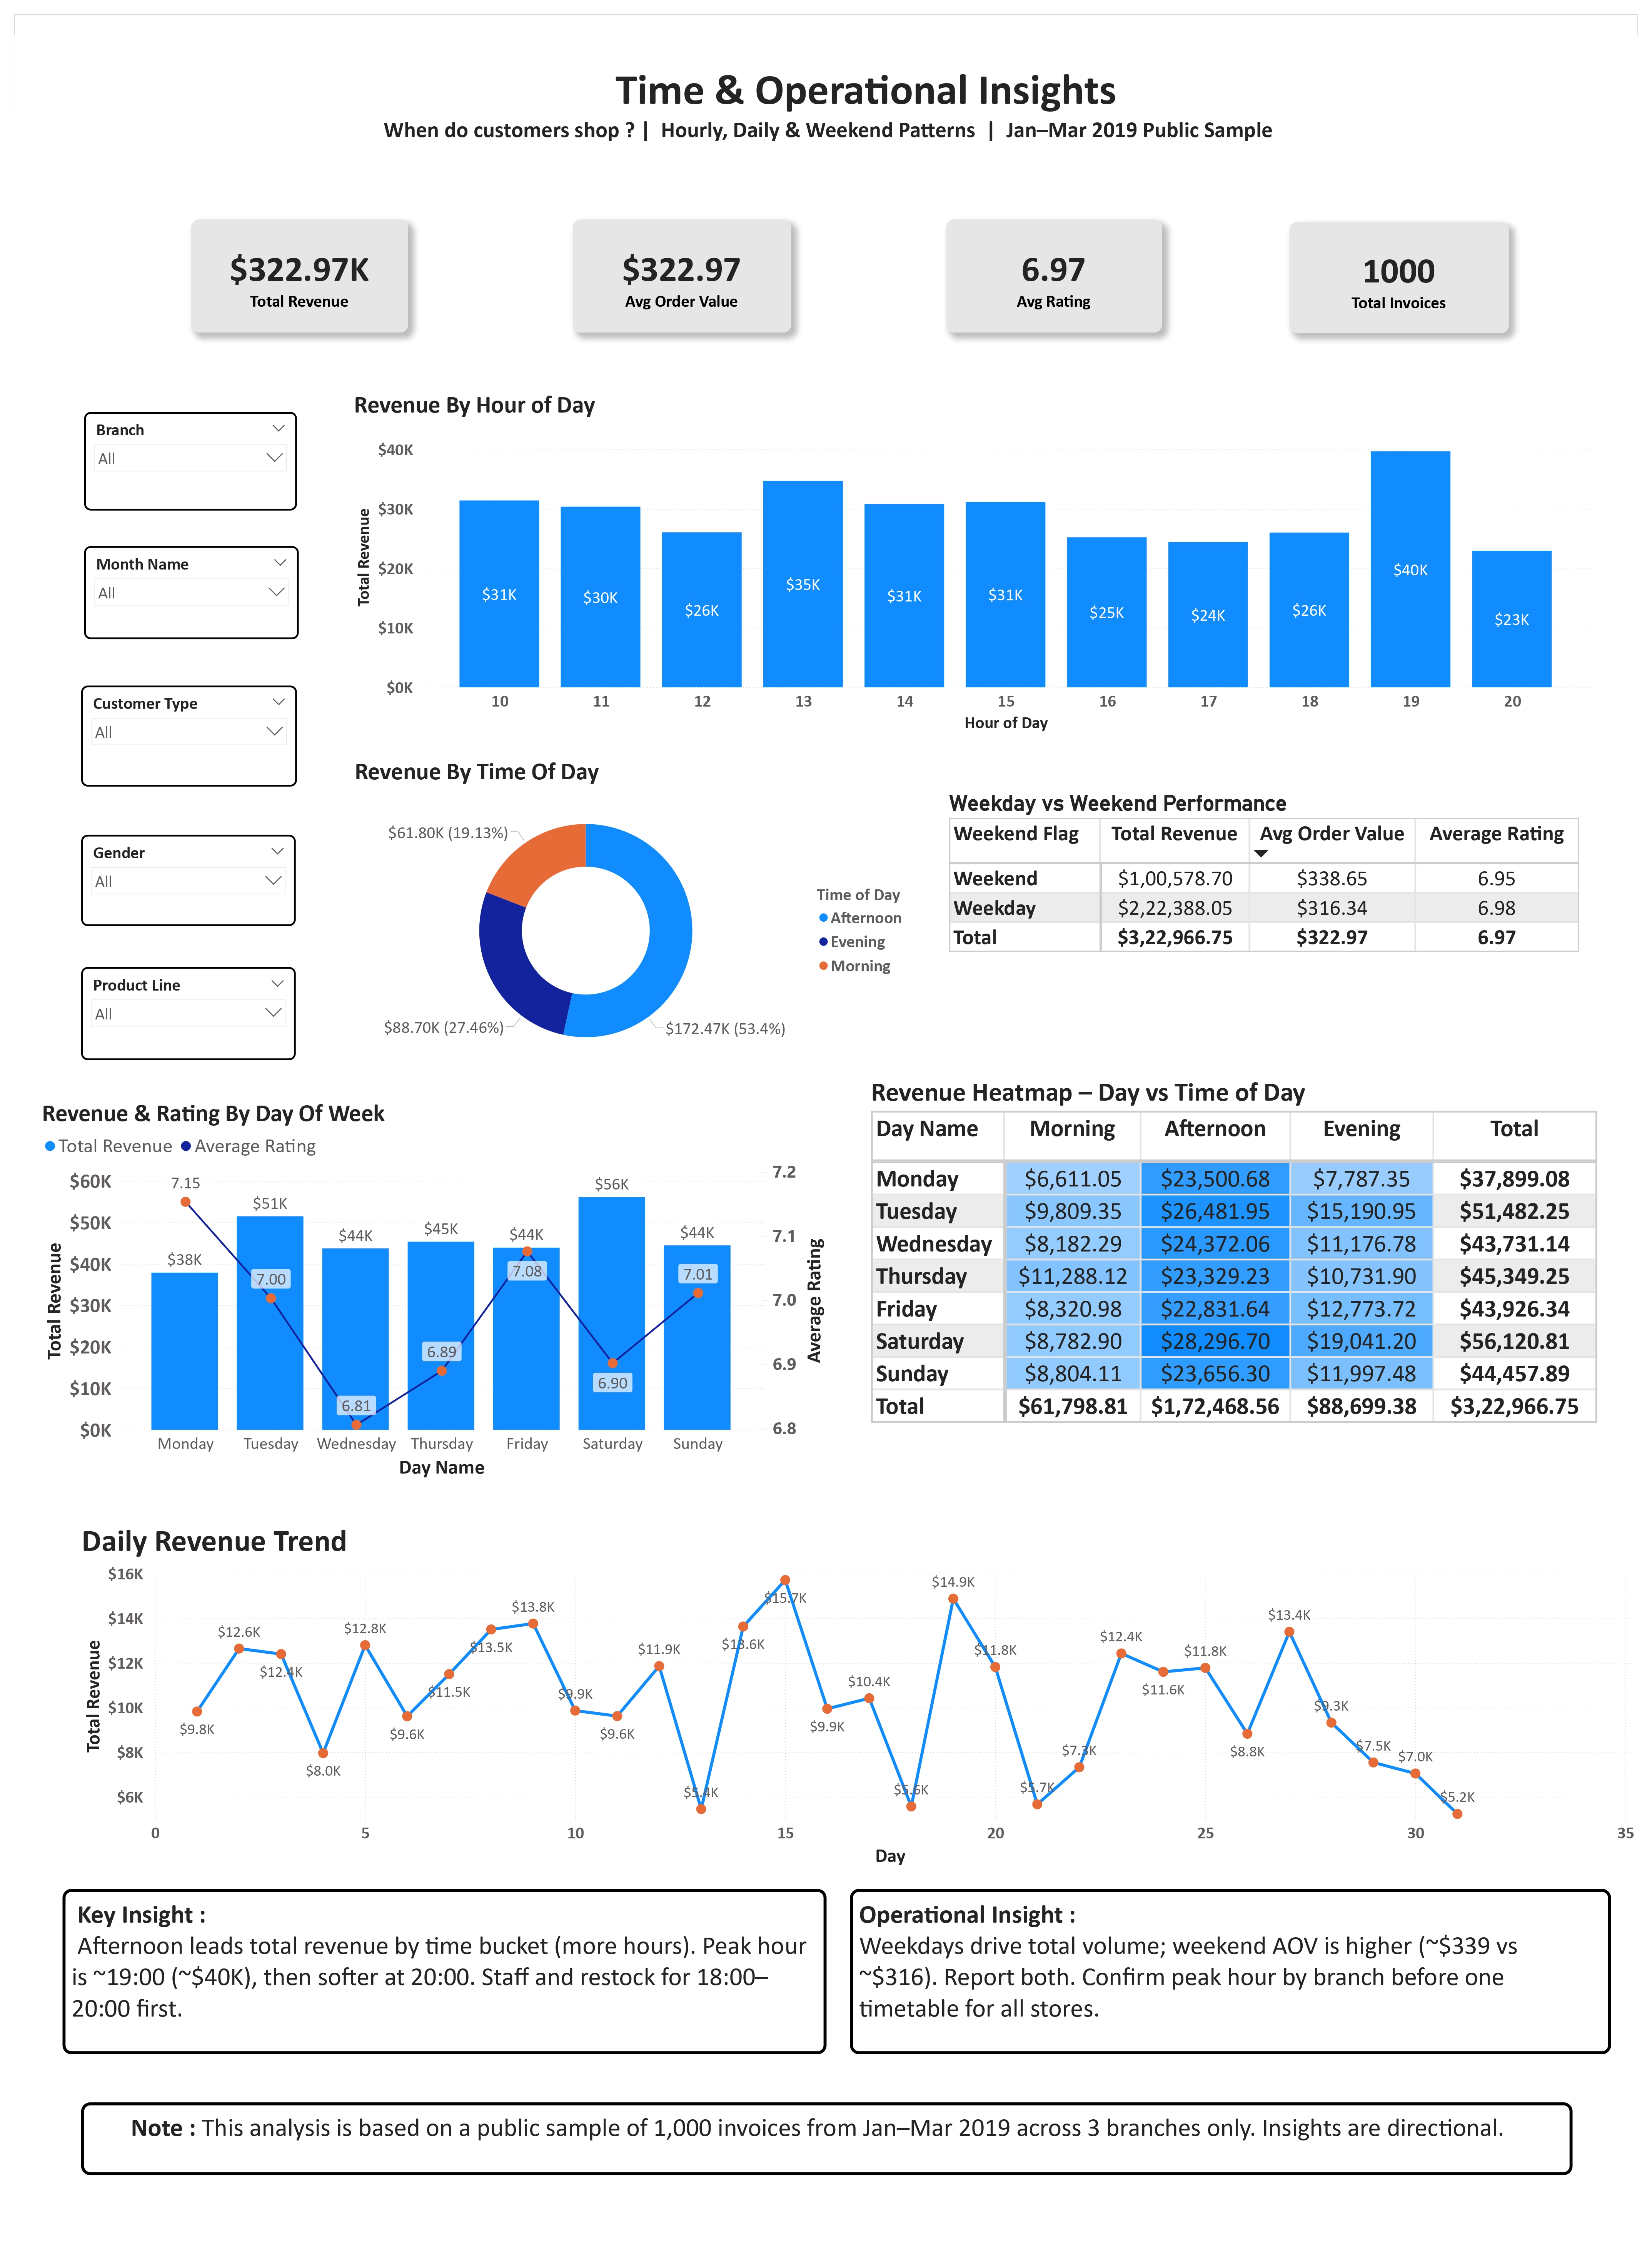

The page's visual inventory and layout, read from the dashboard file:
{"tool":"powerbi","page":{"name":"Page 3","canvas":[2700,3700],"ordinal":2},"visuals":[{"type":"card","fields":{"Values":["super_market_retail.Total Revenue"]},"box":[293.7,341.2,361.5,187.5],"z":0},{"type":"card","fields":{"Values":["super_market_retail.Average Order Value"]},"box":[928.6,341.2,363.8,187.5],"z":1000},{"type":"card","fields":{"Values":["super_market_retail.Average Rating"]},"box":[1550,341.2,359.2,187.5],"z":2000},{"type":"card","fields":{"Values":["super_market_retail.Total Invoices"]},"box":[2120.9,344.9,365.5,185.3],"z":3000},{"type":"slicer","fields":{"Values":["super_market_retail.branch"]},"box":[115.9,661.4,354.5,163.6],"z":4000},{"type":"slicer","fields":{"Values":["super_market_retail.Month Name"]},"box":[115.9,884.1,356.8,154.5],"z":5000},{"type":"slicer","fields":{"Values":["super_market_retail.customer_type"]},"box":[111.4,1115.9,359.1,168.2],"z":6000},{"type":"slicer","fields":{"Values":["super_market_retail.gender"]},"box":[111.4,1363.6,356.8,152.3],"z":7000},{"type":"slicer","fields":{"Values":["super_market_retail.product_line"]},"box":[111.4,1584.1,356.8,154.5],"z":8000},{"type":"clusteredColumnChart","title":"Revenue By Hour of Day","fields":{"Y":["super_market_retail.Total Revenue"],"Category":["super_market_retail.Hour of Day"]},"box":[560.3,623.6,2071.9,576.2],"z":9000},{"type":"donutChart","title":"Revenue By Time Of Day","fields":{"Category":["super_market_retail.Time of Day"],"Y":["super_market_retail.Total Revenue"]},"box":[561.4,1234.1,950,529.5],"z":10000},{"type":"pivotTable","title":"Weekday vs Weekend Performance","fields":{"Rows":["super_market_retail.Weekend Flag"],"Values":["super_market_retail.Total Revenue","super_market_retail.Average Order Value","super_market_retail.Average Rating"]},"box":[1550,1290.1,1077.7,298.2],"z":11000},{"type":"lineClusteredColumnComboChart","title":"Revenue & Rating By Day Of Week","fields":{"Category":["super_market_retail.Day Name"],"Y":["super_market_retail.Total Revenue"],"Y2":["super_market_retail.Average Rating"]},"box":[40.9,1802.3,1313.6,638.6],"z":12000},{"type":"lineChart","title":"Daily Revenue Trend","fields":{"Category":["super_market_retail.date.Variation.Date Hierarchy.Day"],"Y":["super_market_retail.Total Revenue"]},"box":[106.8,2504.5,2593.2,581.8],"z":13000},{"type":"pivotTable","title":"Revenue Heatmap – Day vs Time of Day","fields":{"Rows":["super_market_retail.Day Name"],"Columns":["super_market_retail.Time of Day"],"Values":["super_market_retail.Total Revenue"]},"box":[1420.5,1763.6,1236.4,661.4],"z":14000},{"type":"textbox","box":[115.9,75,2475,184.1],"z":15000},{"type":"textbox","box":[79.8,3117,1271.5,275.4],"z":16000},{"type":"textbox","box":[1389.9,3117,1266.3,275.4],"z":17000},{"type":"textbox","box":[110.7,3472.2,2481.2,121],"z":18000}]}

Visuals, with their boxes on the page's 2700x3700 design canvas (x1, y1, x2, y2). These are canvas units, not pixel positions in the 1652x2254 screenshot, which may show the page scaled, cropped or inside an application window:
card - super_market_retail.Total Revenue: bbox=(294, 341, 655, 529)
card - super_market_retail.Average Order Value: bbox=(929, 341, 1292, 529)
card - super_market_retail.Average Rating: bbox=(1550, 341, 1909, 529)
card - super_market_retail.Total Invoices: bbox=(2121, 345, 2486, 530)
slicer - super_market_retail.branch: bbox=(116, 661, 470, 825)
slicer - super_market_retail.Month Name: bbox=(116, 884, 473, 1039)
slicer - super_market_retail.customer_type: bbox=(111, 1116, 470, 1284)
slicer - super_market_retail.gender: bbox=(111, 1364, 468, 1516)
slicer - super_market_retail.product_line: bbox=(111, 1584, 468, 1739)
"Revenue By Hour of Day" clusteredColumnChart: bbox=(560, 624, 2632, 1200)
"Revenue By Time Of Day" donutChart: bbox=(561, 1234, 1511, 1764)
"Weekday vs Weekend Performance" pivotTable: bbox=(1550, 1290, 2628, 1588)
"Revenue & Rating By Day Of Week" lineClusteredColumnComboChart: bbox=(41, 1802, 1354, 2441)
"Daily Revenue Trend" lineChart: bbox=(107, 2504, 2700, 3086)
"Revenue Heatmap – Day vs Time of Day" pivotTable: bbox=(1420, 1764, 2657, 2425)
textbox: bbox=(116, 75, 2591, 259)
textbox: bbox=(80, 3117, 1351, 3392)
textbox: bbox=(1390, 3117, 2656, 3392)
textbox: bbox=(111, 3472, 2592, 3593)
